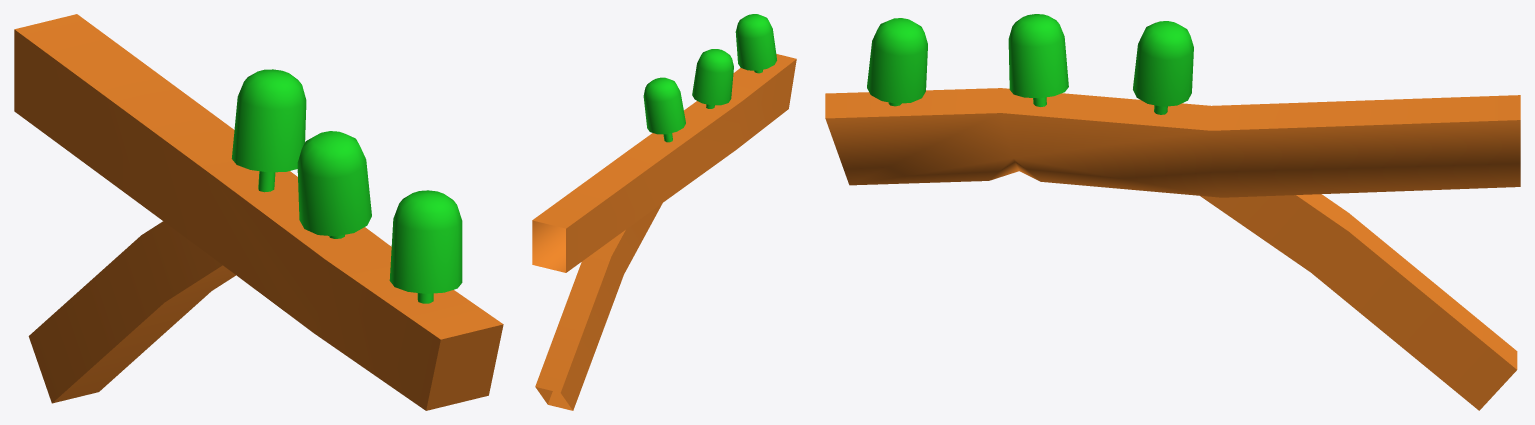
File: ReseauElectrique_Bois_02.fbx
The picture shows the model from 3 angles, left to right: view 1: azimuth 30°, elevation 25°; view 2: azimuth 150°, elevation 25°; view 3: azimuth 270°, elevation 25°; orthographic projection. The views are drawn at different scales.
Parts seen in each view (by area): view 1: ReseauElectrique_Bois_02_LOD0; view 2: ReseauElectrique_Bois_02_LOD0; view 3: ReseauElectrique_Bois_02_LOD0.
Boxes of the visible parts, x1,y1,x2,y2 form: ReseauElectrique_Bois_02_LOD0: [14, 14, 503, 410]; ReseauElectrique_Bois_02_LOD0: [532, 14, 796, 410]; ReseauElectrique_Bois_02_LOD0: [825, 14, 1520, 410].
Bounding box in the file's own units: 25.57 × 141 × 235.
